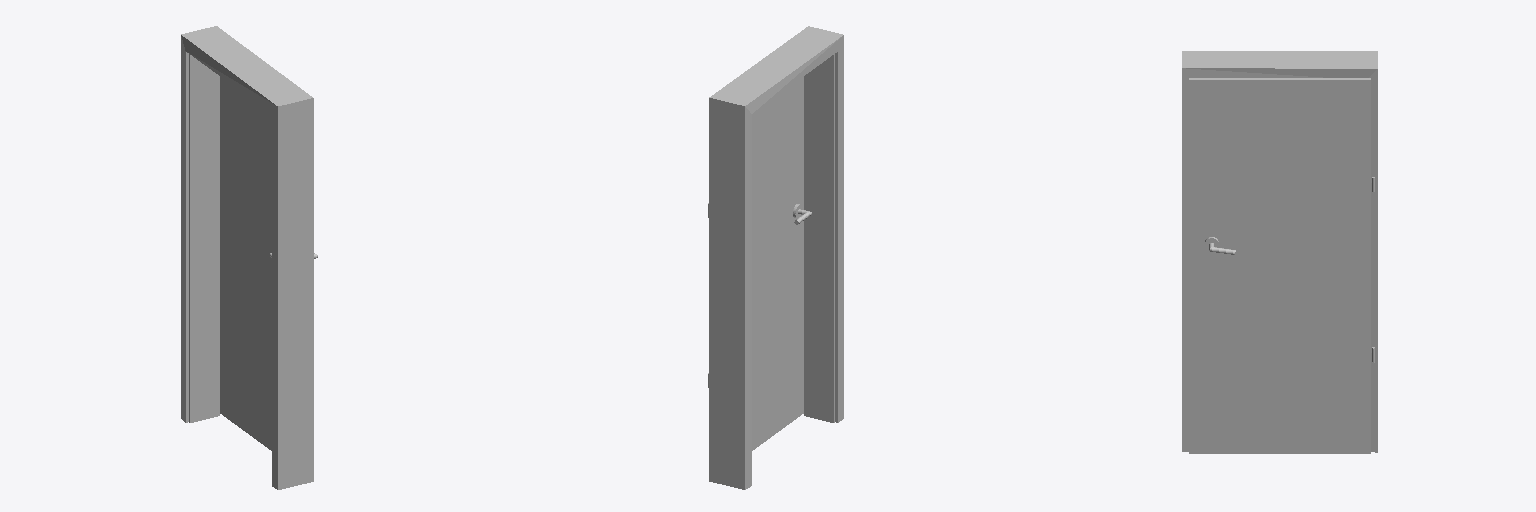
File: door24.obj
The picture shows the model from 3 angles: view 1: azimuth 30°, elevation 25°; view 2: azimuth 150°, elevation 25°; view 3: azimuth 270°, elevation 25°; orthographic projection.
Visible parts, largest first — view 1: Cylinder.005, Cylinder.001; view 2: Cylinder.005, Cylinder.001; view 3: Cylinder.001, Cylinder.005.
Part boxes in pixels (left/top/right/bottom): Cylinder.005: left=181, top=26, right=313, bottom=489; Cylinder.001: left=220, top=77, right=271, bottom=450; Cylinder.005: left=708, top=26, right=843, bottom=489; Cylinder.001: left=708, top=77, right=803, bottom=450; Cylinder.001: left=1189, top=78, right=1374, bottom=453; Cylinder.005: left=1182, top=51, right=1377, bottom=452.
Bounding box in the file's own units: 0.3039 × 2.05 × 0.95.